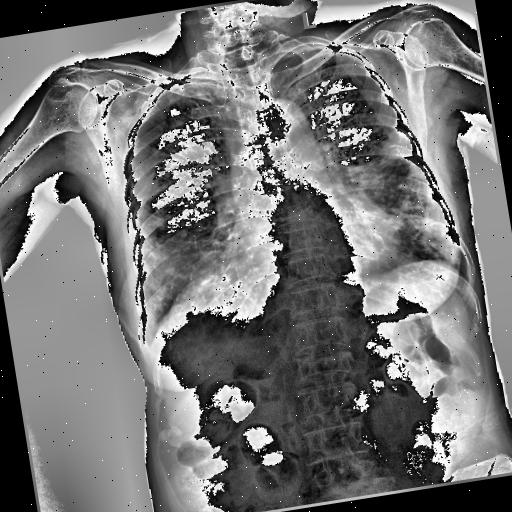0- Aortic enlargement: (224, 96, 318, 189), (249, 91, 313, 146)
11- Pleural thickening: (376, 110, 418, 172), (274, 36, 337, 60)
13- Pulmonary fibrosis: (330, 124, 459, 282), (334, 150, 406, 186)
3- Cardiomegaly: (237, 198, 400, 288)
5- ILD: (114, 92, 231, 318)
6- Infiltration: (330, 124, 459, 282), (327, 156, 471, 290), (126, 218, 270, 347), (135, 201, 260, 326), (340, 140, 406, 198)
7- Lung Opacity: (396, 180, 462, 276), (340, 140, 406, 198)
8- Nodule-Mass: (152, 217, 166, 228), (184, 178, 195, 188)
